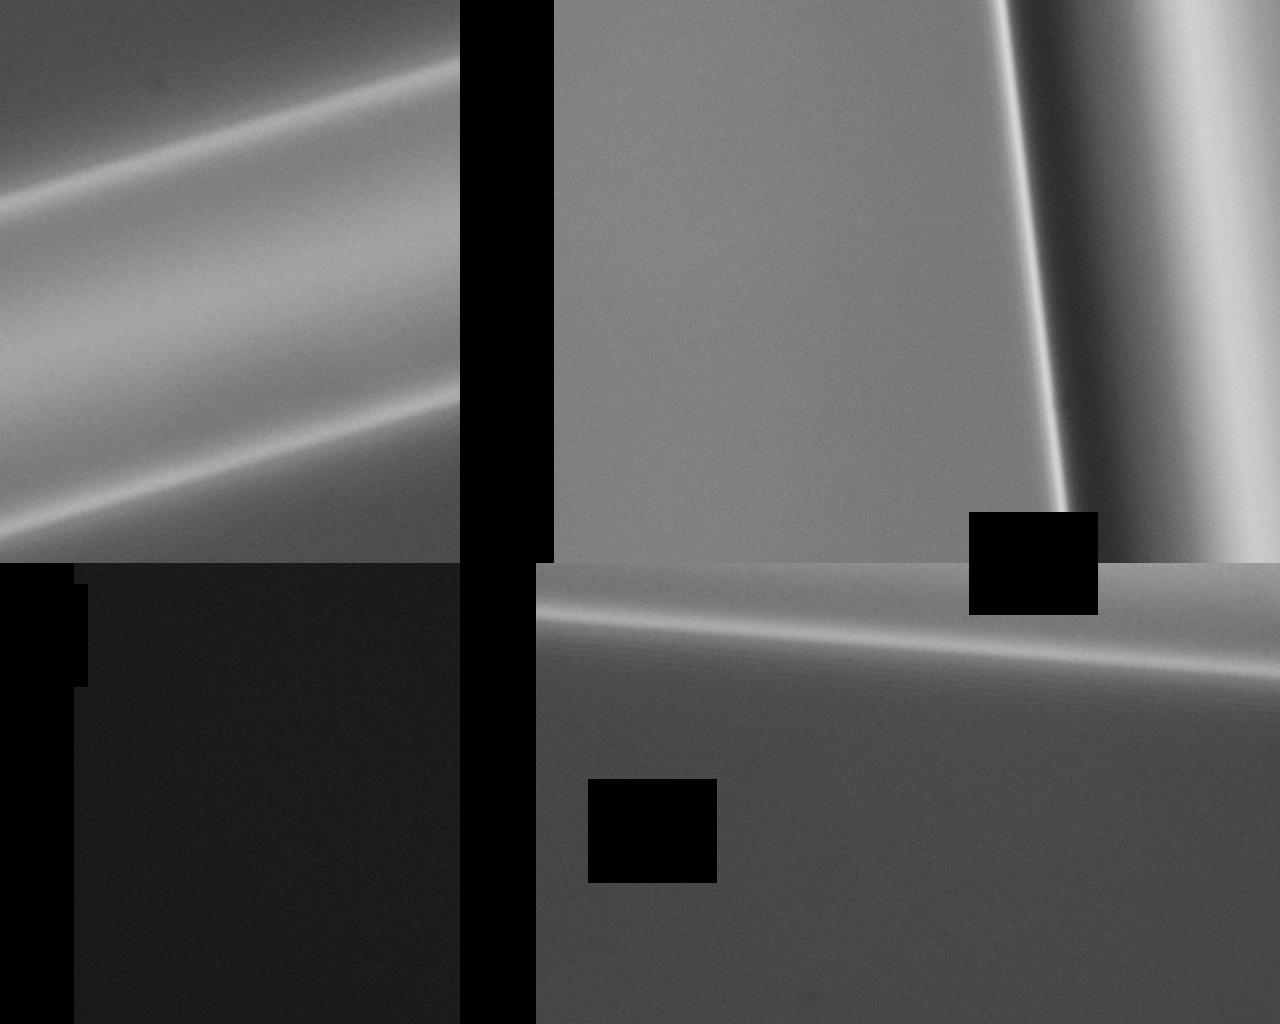fiber: (0, 287, 880, 681)
